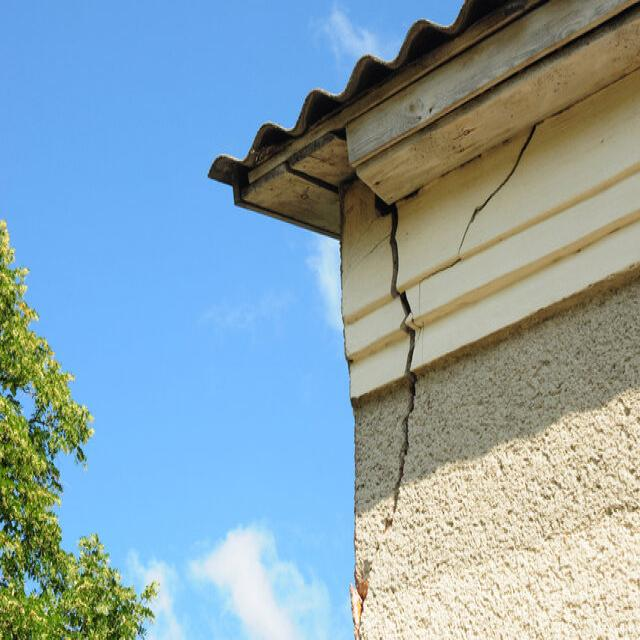Crack: (347, 190, 421, 629)
